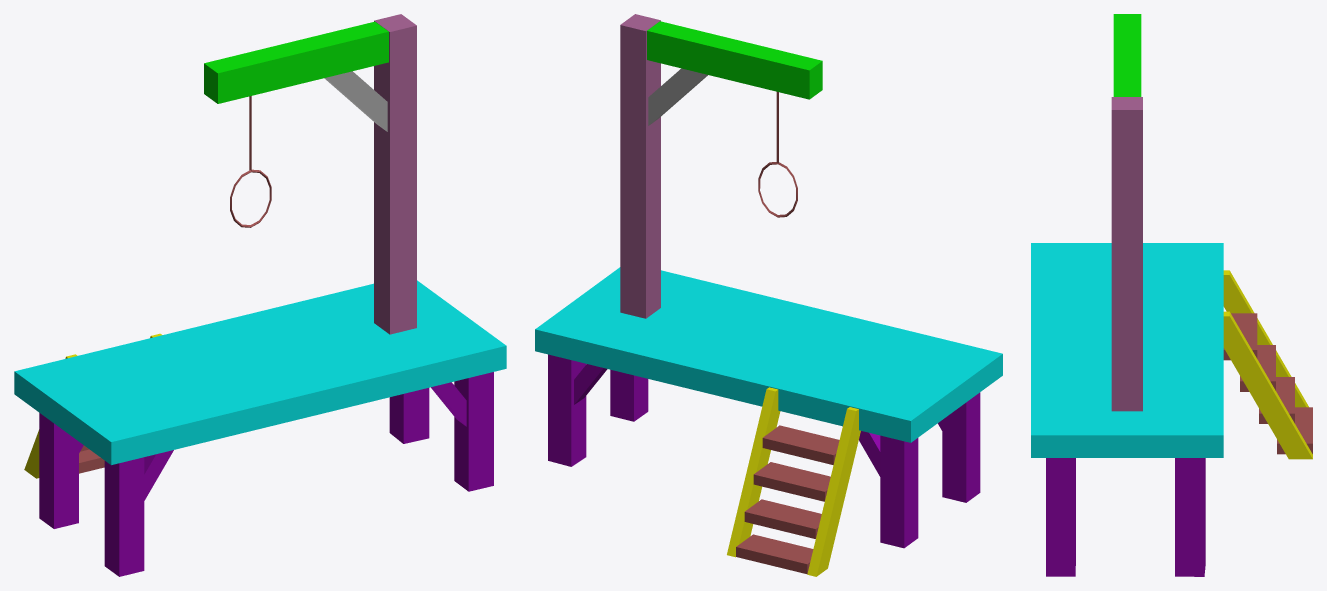
Rendered from Gallows_03.fbx.
3 renders of one model, left to right at view 1: azimuth 30°, elevation 25°; view 2: azimuth 150°, elevation 25°; view 3: azimuth 270°, elevation 25°, orthographic. The views are drawn at different scales.
Visible parts, largest first — view 1: gallows1; view 2: gallows1; view 3: gallows1.
Boxes of the visible parts, x1=… form: gallows1: x1=14, y1=14, x2=506, y2=576; gallows1: x1=535, y1=14, x2=1002, y2=576; gallows1: x1=1031, y1=14, x2=1312, y2=576.
Size of the model in its own units: 463 by 500 by 287.
